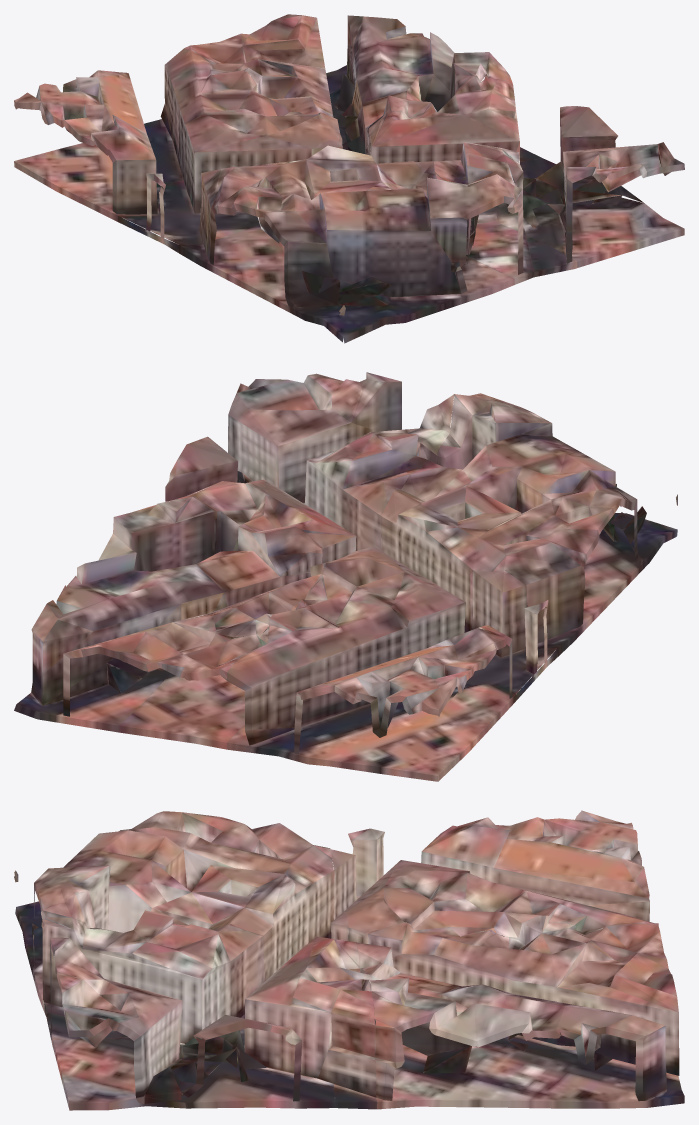
The picture shows the model from 3 angles, top to bottom: view 1: azimuth 30°, elevation 25°; view 2: azimuth 150°, elevation 25°; view 3: azimuth 270°, elevation 25°; orthographic projection. The views are drawn at different scales.
Visible parts, largest first — view 1: Mesh_0; view 2: Mesh_0; view 3: Mesh_0.
Part boxes in pixels (x1,y1,x2,y2): Mesh_0: [14, 14, 684, 343]; Mesh_0: [14, 372, 677, 781]; Mesh_0: [14, 810, 684, 1110].
Size of the model in its own units: 133 by 38.99 by 165.
Materials: 1 (1 with a texture image).
